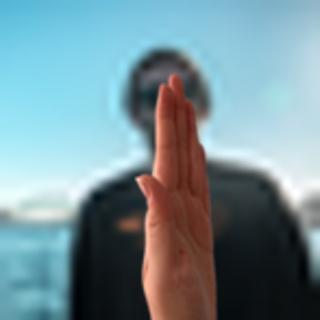Right: (134, 67, 222, 300)
